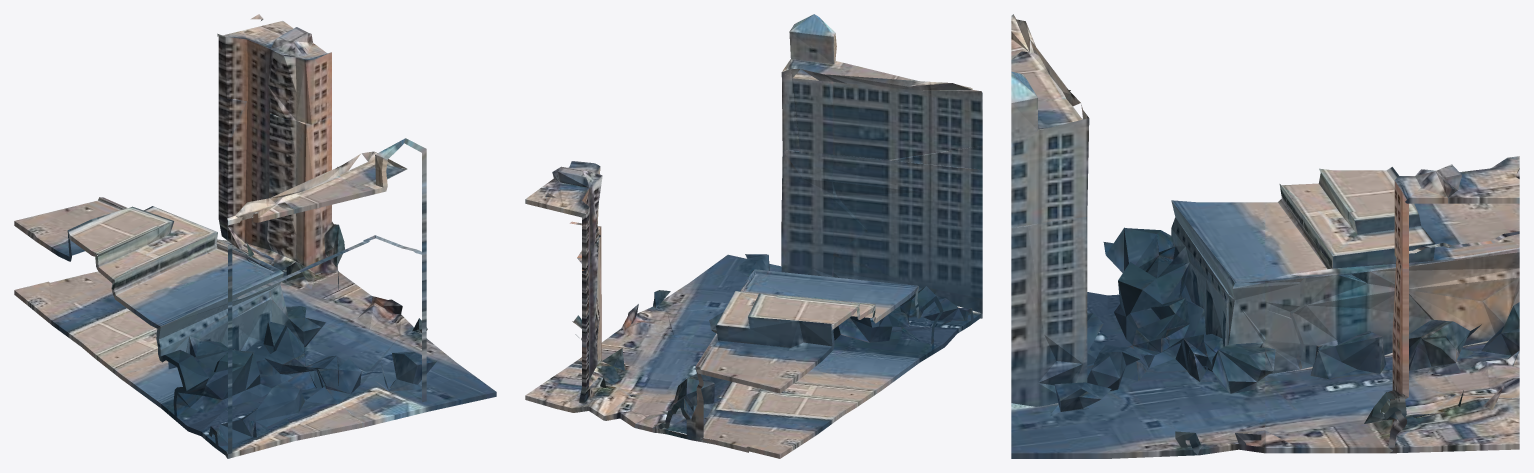
File: chunk_6_-7.glb
3 views of the same model, side by side, from view 1: azimuth 30°, elevation 25°; view 2: azimuth 150°, elevation 25°; view 3: azimuth 270°, elevation 25° (orthographic). The views are drawn at different scales.
Visible parts, largest first — view 1: hero-chunk; view 2: hero-chunk; view 3: hero-chunk.
Part boxes in pixels (left/top/right/bottom): hero-chunk: left=14, top=14, right=496, bottom=458; hero-chunk: left=525, top=14, right=982, bottom=458; hero-chunk: left=1011, top=14, right=1519, bottom=458.
Bounding box in the file's own units: 55.42 × 55.32 × 76.33.
Materials: 3 (3 with a texture image).
